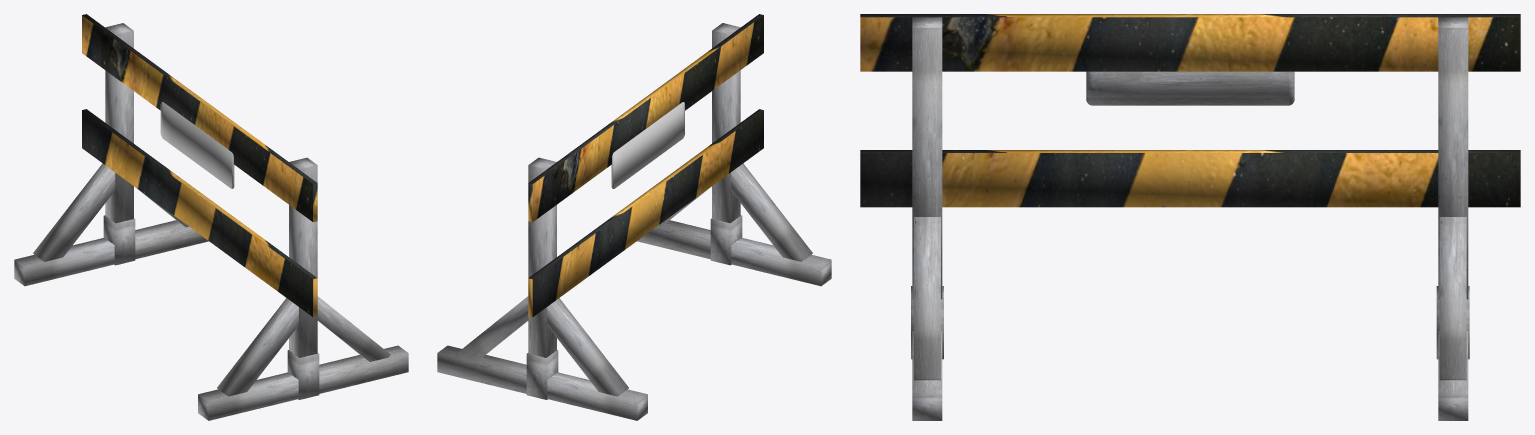
The model's file is Wooden Barrier Right.fbx.
3 views of the same model, side by side, from view 1: azimuth 30°, elevation 25°; view 2: azimuth 150°, elevation 25°; view 3: azimuth 270°, elevation 25° (orthographic). The views are drawn at different scales.
Parts seen in each view (by area): view 1: Wooden_Barrier; view 2: Wooden_Barrier; view 3: Wooden_Barrier.
Part boxes in pixels (left/top/right/bottom): Wooden_Barrier: left=14, top=14, right=408, bottom=420; Wooden_Barrier: left=437, top=14, right=831, bottom=420; Wooden_Barrier: left=860, top=14, right=1520, bottom=420.
Size of the model in its own units: 112 by 123 by 224.
